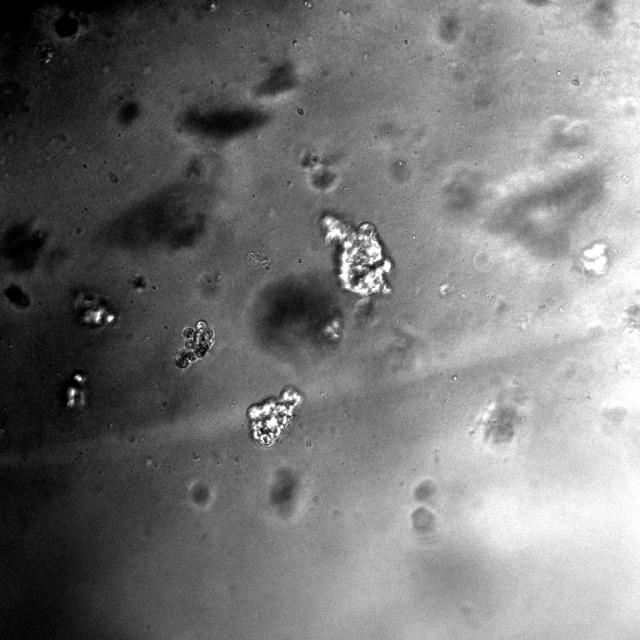organoid: (321, 214, 392, 297), (246, 386, 302, 447), (174, 320, 214, 369)
